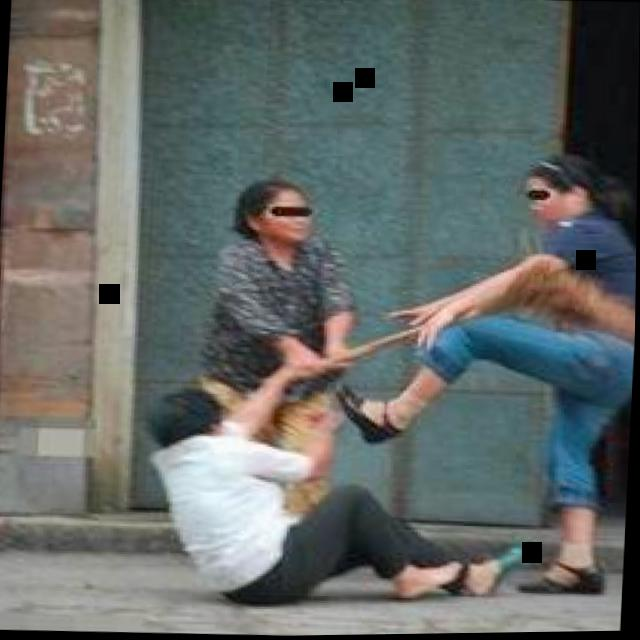Fall-Detected: (138, 331, 568, 628)
